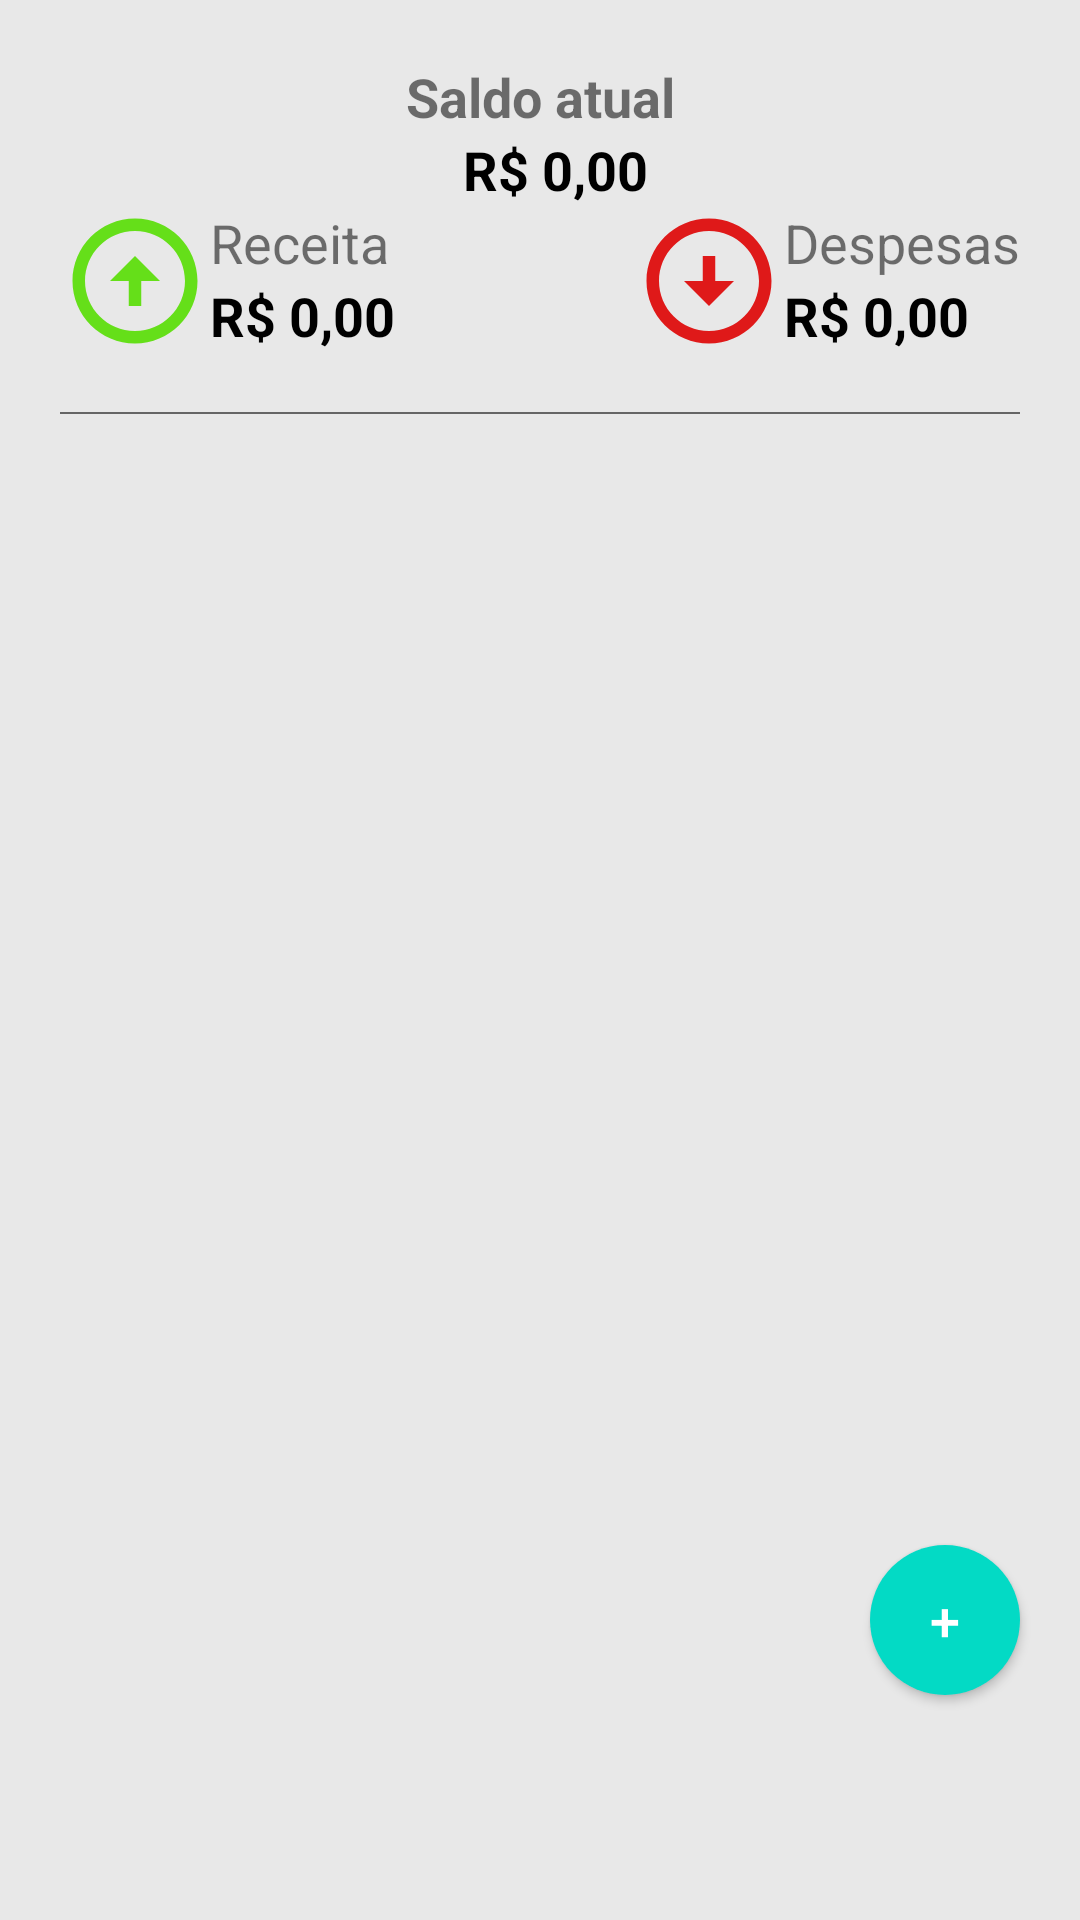

Point at icon controls on the screen. Image size 1080 x 1920, points as point (x, y).
arrow down: point (709, 281)
arrow up: point (135, 281)
